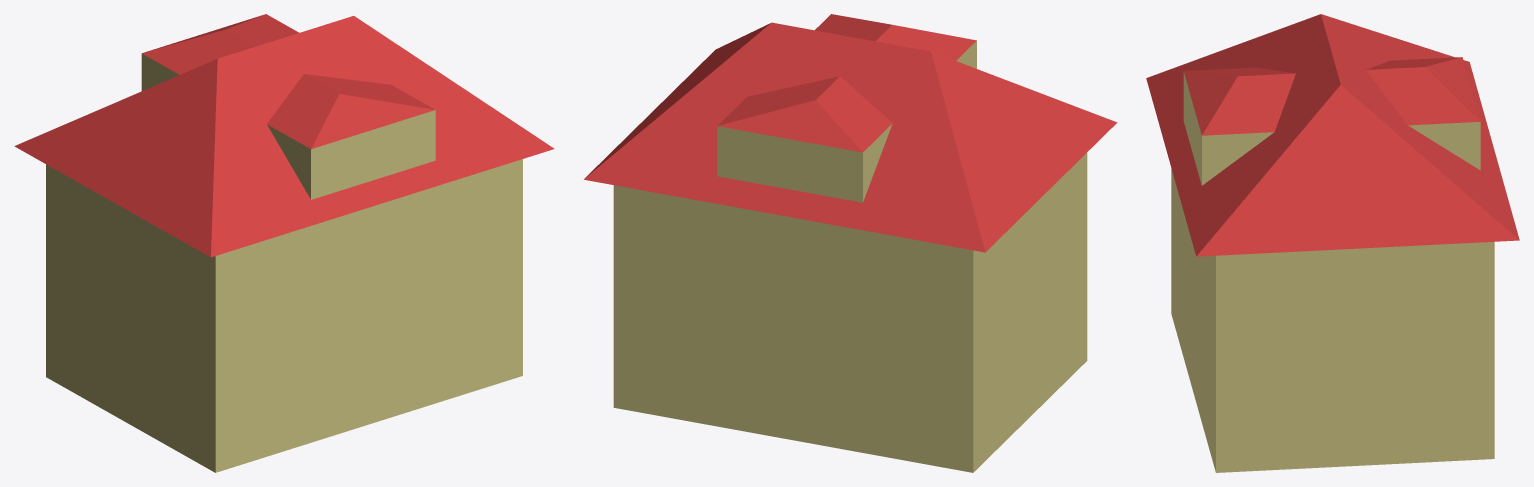
3 views of the same model, side by side, from view 1: azimuth 30°, elevation 25°; view 2: azimuth 150°, elevation 25°; view 3: azimuth 270°, elevation 25° (orthographic). The views are drawn at different scales.
Visible parts, largest first — view 1: group_7, group_3, group_4, group_5, group_6; view 2: group_7, group_3, group_4, group_5, group_6; view 3: group_7, group_3, group_4, group_6, group_5.
Part boxes in pixels (box(x1,y1,x2,y2)): group_7: box(46, 159, 522, 472); group_3: box(14, 16, 554, 257); group_4: box(142, 14, 435, 149); group_5: box(141, 54, 435, 199); group_6: box(16, 129, 553, 256); group_7: box(613, 152, 1087, 472); group_3: box(584, 22, 1117, 252); group_4: box(718, 14, 976, 152); group_5: box(717, 41, 976, 202); group_6: box(586, 47, 1115, 251); group_7: box(1171, 168, 1494, 472); group_3: box(1146, 14, 1519, 256); group_4: box(1183, 57, 1480, 135); group_6: box(1147, 55, 1519, 255); group_5: box(1183, 72, 1480, 185).
Size of the model in its own units: 15.36 by 12.45 by 12.39.
